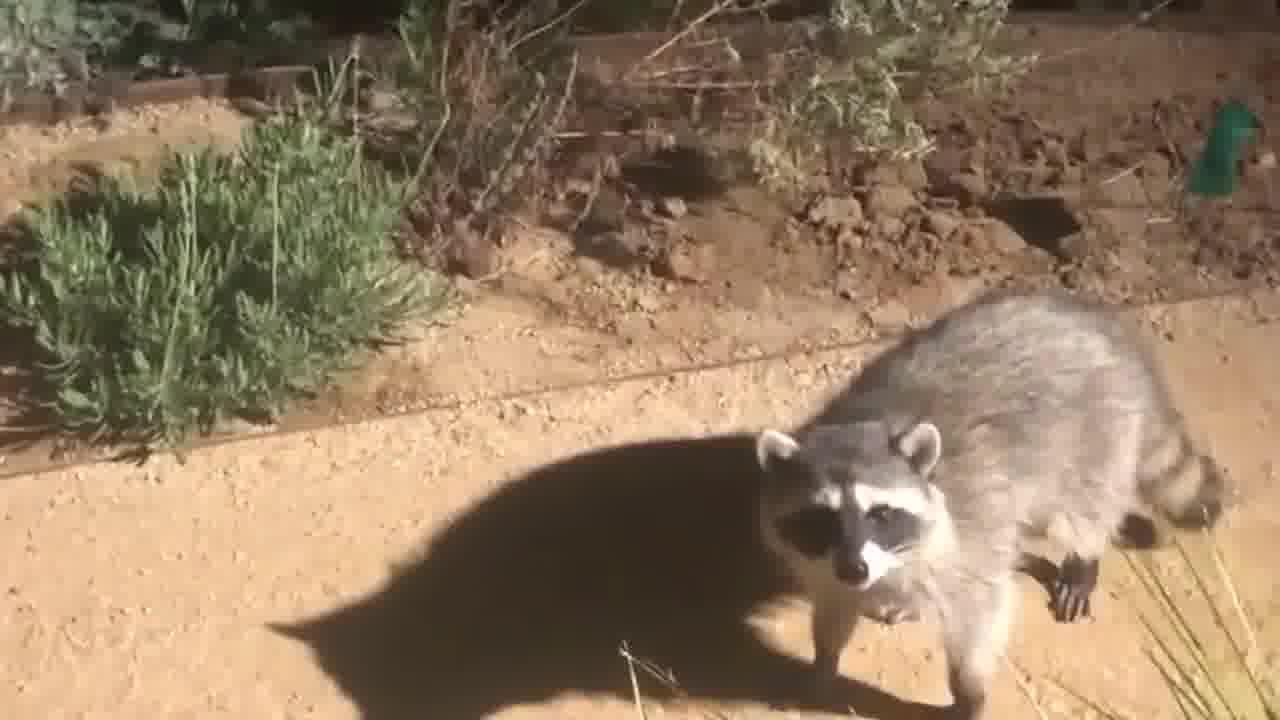raccoon: (751, 287, 1229, 720)
